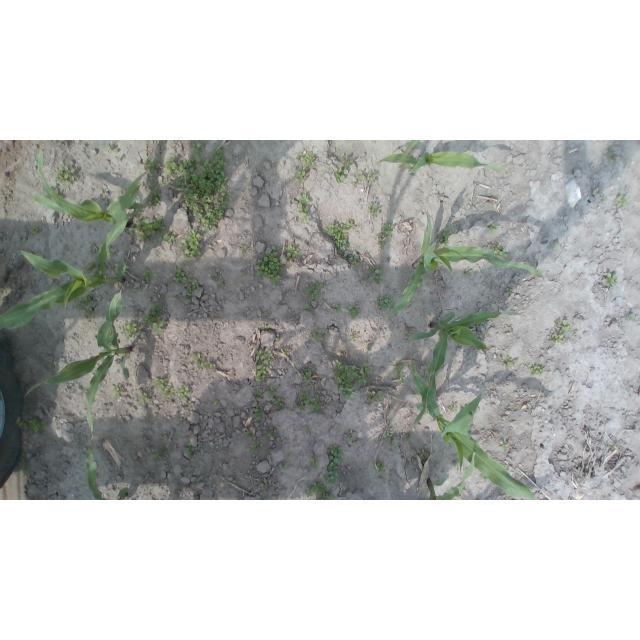Maize: (409, 358, 539, 500), (386, 213, 542, 318), (1, 212, 132, 336), (26, 287, 132, 437), (409, 311, 520, 430), (31, 149, 145, 230), (375, 151, 506, 178), (424, 450, 476, 500), (84, 446, 129, 500), (405, 140, 423, 153)
Weeds: (165, 143, 233, 232), (332, 360, 372, 401), (130, 210, 165, 244), (256, 249, 285, 284), (179, 228, 204, 260), (324, 444, 344, 484), (143, 302, 166, 336), (327, 223, 349, 253), (16, 416, 48, 436), (306, 482, 337, 500), (334, 156, 353, 184), (184, 280, 201, 305), (56, 167, 77, 187), (155, 378, 174, 400), (295, 194, 310, 221), (172, 265, 193, 284), (189, 352, 212, 369), (143, 157, 163, 175), (123, 320, 140, 341), (306, 282, 324, 301), (296, 151, 316, 168), (146, 187, 161, 207), (438, 228, 453, 248), (488, 244, 508, 259), (369, 266, 385, 284), (376, 294, 394, 310), (255, 350, 273, 365), (603, 272, 618, 290), (383, 221, 395, 241), (298, 391, 310, 411), (76, 295, 93, 309), (300, 366, 313, 384), (393, 364, 405, 383), (176, 384, 190, 400), (616, 195, 633, 208), (256, 366, 268, 383), (341, 253, 359, 264), (368, 390, 383, 403), (528, 365, 545, 376), (112, 385, 125, 399), (296, 168, 307, 184), (140, 269, 153, 282), (164, 231, 177, 244), (559, 319, 571, 333), (84, 308, 96, 321), (368, 204, 380, 217), (308, 456, 320, 469), (312, 328, 324, 341), (287, 244, 298, 258), (252, 406, 262, 421), (85, 260, 96, 273), (349, 306, 360, 319), (488, 222, 501, 233), (184, 444, 194, 458), (312, 398, 321, 413), (273, 398, 285, 409), (504, 356, 515, 368), (377, 460, 388, 472), (551, 334, 564, 344), (344, 219, 357, 228), (31, 225, 42, 235), (384, 431, 396, 440), (139, 392, 148, 404), (253, 392, 263, 402), (343, 435, 353, 445), (419, 448, 429, 458), (244, 431, 256, 439), (152, 452, 162, 461), (269, 428, 278, 438), (368, 172, 376, 183), (248, 444, 257, 453), (107, 144, 117, 152), (332, 304, 342, 312), (267, 388, 277, 396), (606, 148, 616, 156), (499, 440, 507, 450), (280, 464, 289, 472), (348, 332, 356, 341), (216, 280, 224, 288), (355, 172, 363, 180), (464, 268, 472, 276), (304, 305, 313, 312), (286, 452, 293, 460), (451, 404, 458, 412), (241, 245, 248, 252), (189, 404, 196, 411), (284, 349, 291, 356), (392, 444, 398, 452), (408, 436, 413, 445), (263, 325, 270, 331), (628, 315, 635, 321), (508, 288, 513, 296), (380, 241, 385, 248), (552, 244, 559, 249), (601, 197, 607, 202), (611, 446, 618, 450), (276, 335, 280, 341), (304, 428, 312, 431), (368, 346, 371, 350)
